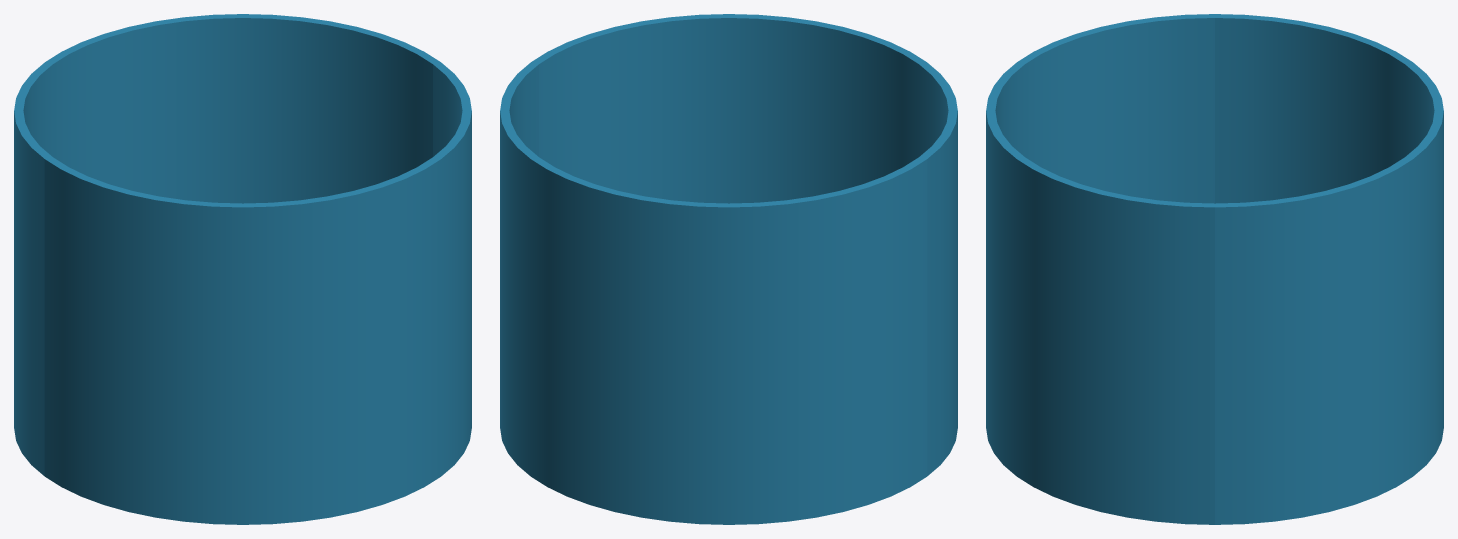
File: mixed_bed_polisher_pressure.glb
3 views of the same model, side by side, from view 1: azimuth 30°, elevation 25°; view 2: azimuth 150°, elevation 25°; view 3: azimuth 270°, elevation 25° (orthographic).
Visible parts, largest first — view 1: pressure__front, pressure__back; view 2: pressure__back, pressure__front; view 3: pressure__back, pressure__front.
Boxes of the visible parts, left/top/right/bottom form: pressure__front: left=44, top=62, right=471, bottom=524; pressure__back: left=14, top=14, right=440, bottom=475; pressure__back: left=500, top=62, right=927, bottom=524; pressure__front: left=531, top=14, right=957, bottom=475; pressure__back: left=1215, top=14, right=1443, bottom=524; pressure__front: left=986, top=14, right=1214, bottom=524.
Size of the model in its own units: 0.98 by 0.75 by 0.98.
